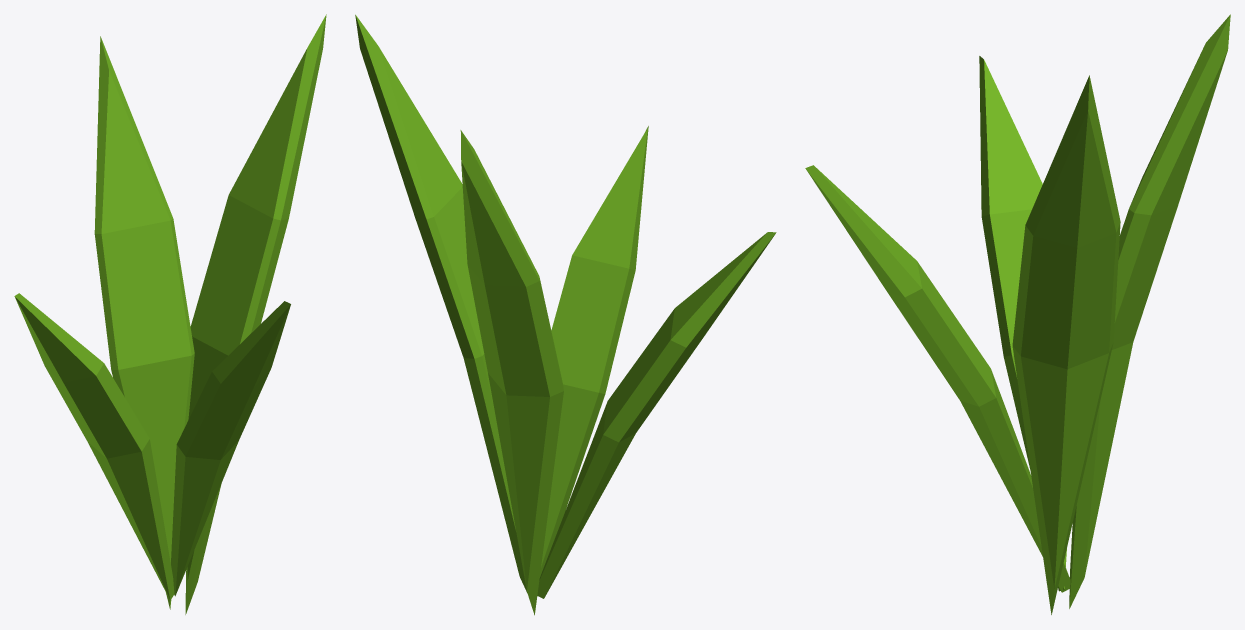
Rendered from SM_Grass_1A.fbx.
3 renders of one model, left to right at view 1: azimuth 30°, elevation 25°; view 2: azimuth 150°, elevation 25°; view 3: azimuth 270°, elevation 25°, orthographic. The views are drawn at different scales.
Visible parts, largest first — view 1: SM_Grass_1A_LOD0; view 2: SM_Grass_1A_LOD0; view 3: SM_Grass_1A_LOD0.
Boxes of the visible parts, x1,y1,x2,y2 form: SM_Grass_1A_LOD0: (14,14,326,614); SM_Grass_1A_LOD0: (355,14,776,615); SM_Grass_1A_LOD0: (805,14,1230,614).
Size of the model in its own units: 84.28 by 75.55 by 123.
1 material, 1 textured.
